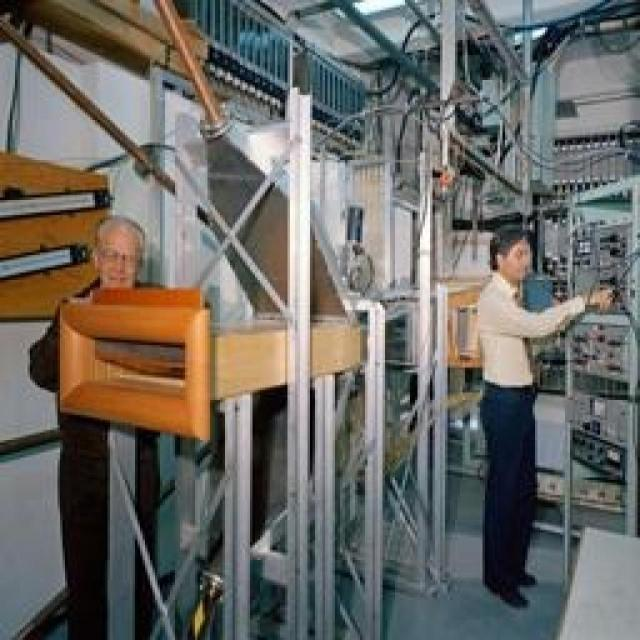Helmet: (40, 275, 145, 577), (465, 260, 535, 409), (82, 197, 160, 303), (486, 211, 554, 302)
